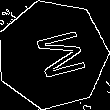M_W: (22, 26, 84, 83)
